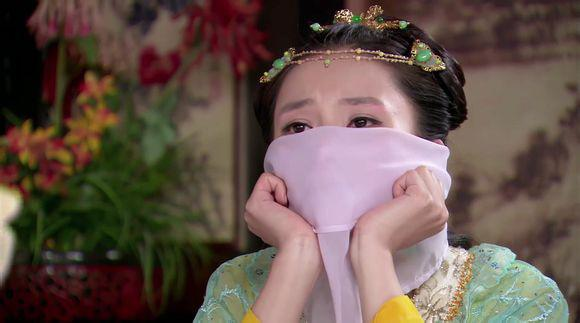OK: (271, 91, 390, 210)
